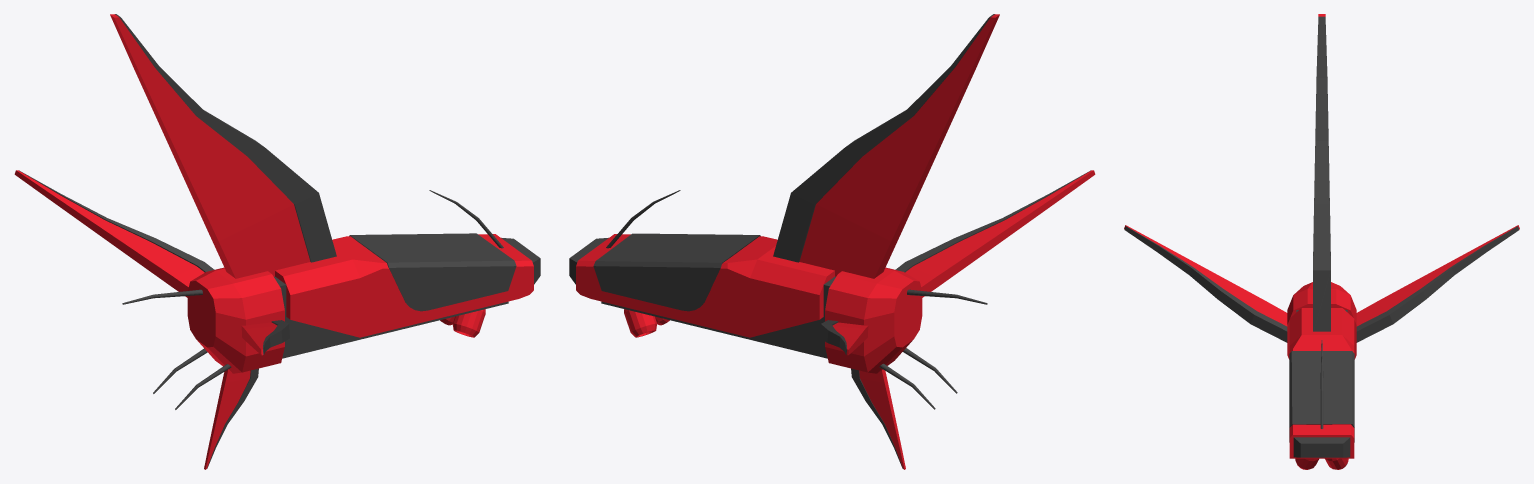
Rendered from mob3.glb.
The picture shows the model from 3 angles, left to right: view 1: azimuth 30°, elevation 25°; view 2: azimuth 150°, elevation 25°; view 3: azimuth 270°, elevation 25°; orthographic projection. The views are drawn at different scales.
Parts seen in each view (by area): view 1: Cylinder.004; view 2: Cylinder.004; view 3: Cylinder.004.
Boxes of the visible parts, x1=… form: Cylinder.004: x1=14, y1=14, x2=540, y2=469; Cylinder.004: x1=569, y1=14, x2=1095, y2=469; Cylinder.004: x1=1124, y1=14, x2=1519, y2=469.
Bounding box in the file's own units: 11.92 × 13.06 × 12.29.
